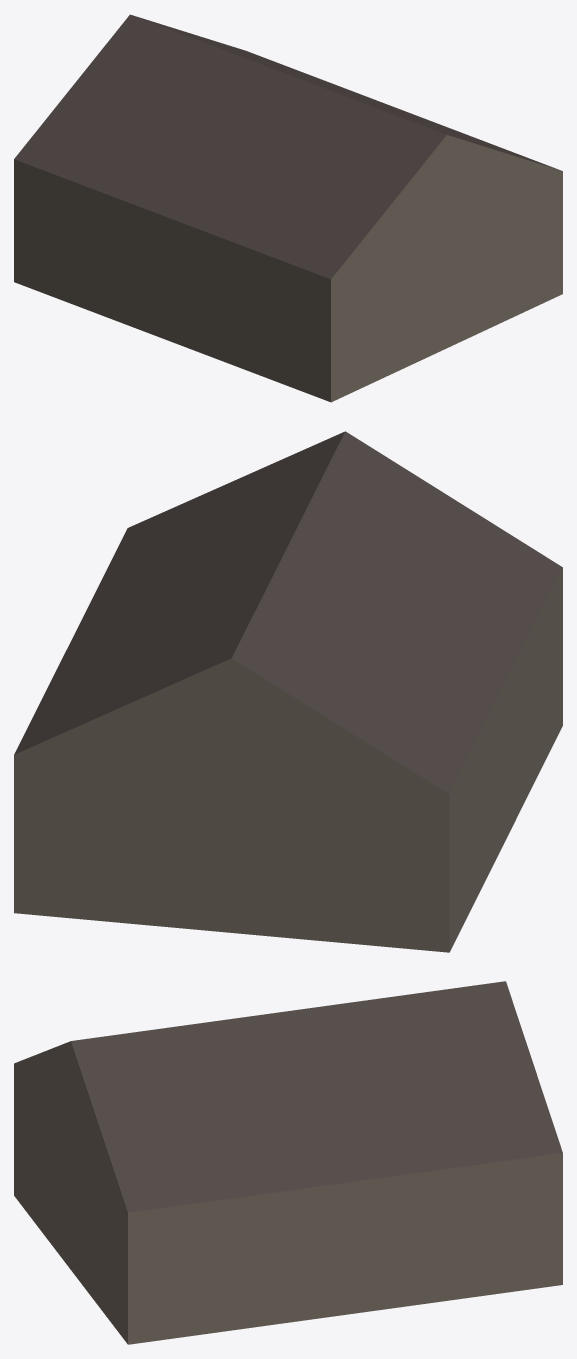
The picture shows the model from 3 angles, top to bottom: view 1: azimuth 30°, elevation 25°; view 2: azimuth 150°, elevation 25°; view 3: azimuth 270°, elevation 25°; orthographic projection. The views are drawn at different scales.
Parts seen in each view (by area): view 1: HP-w859457322; view 2: HP-w859457322; view 3: HP-w859457322.
Part boxes in pixels (left/top/right/bottom): HP-w859457322: left=14, top=14, right=562, bottom=402; HP-w859457322: left=14, top=431, right=562, bottom=952; HP-w859457322: left=14, top=981, right=562, bottom=1344.
Size of the model in its own units: 20.41 by 10.42 by 22.63.
